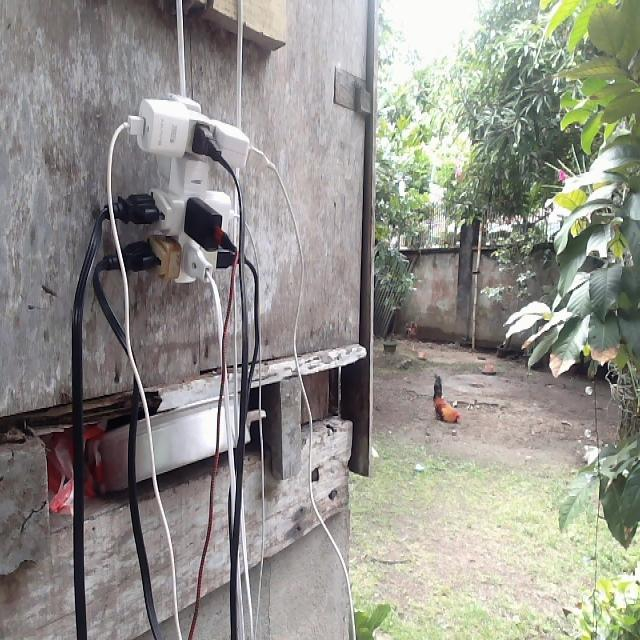-: (102, 93, 252, 287)
